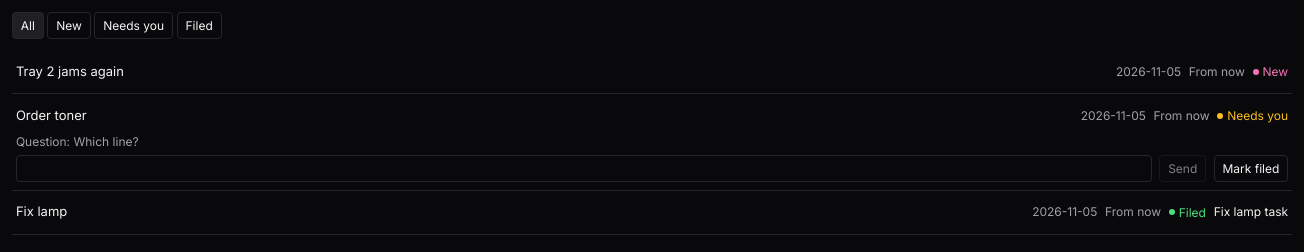
it: CapturesView › Mark filed posts, then the reload shows Filed
The width and height of the screenshot is (1304, 252).
Expected: the text "Question: Which line?" is shown, [16,134,139,149]
Click the button "Mark filed": (1251, 169) [1214,155,1288,182]
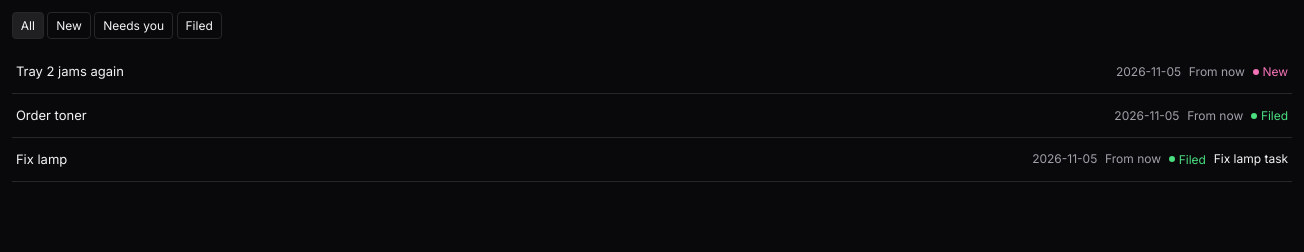
Expected: the button "Mark filed" is gone
